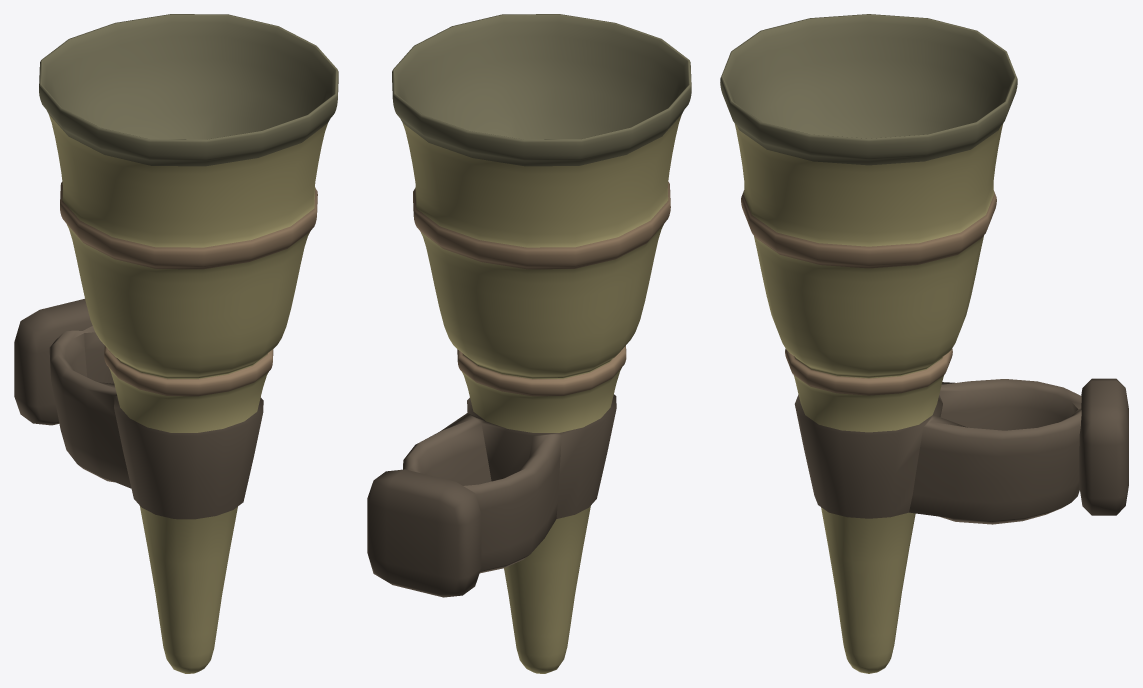
Rendered from torche.fbx.
3 renders of one model, left to right at view 1: azimuth 30°, elevation 25°; view 2: azimuth 150°, elevation 25°; view 3: azimuth 270°, elevation 25°, orthographic.
Visible parts, largest first — view 1: group2_pCube2; view 2: group2_pCube2; view 3: group2_pCube2.
Part boxes in pixels (x1,y1,x2,y2): group2_pCube2: (14,14,338,673); group2_pCube2: (367,14,691,673); group2_pCube2: (720,14,1128,673).
Bounding box in the file's own units: 0.5781 × 1.28 × 0.7939.
